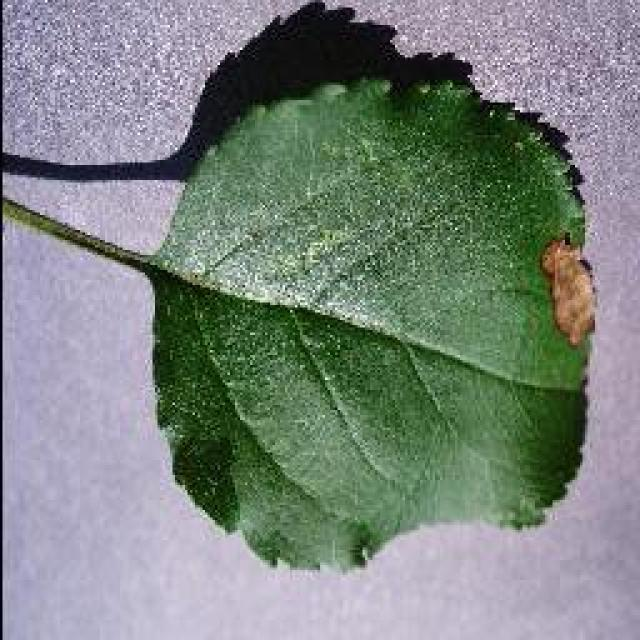Black_rot: (0, 0, 597, 572)
